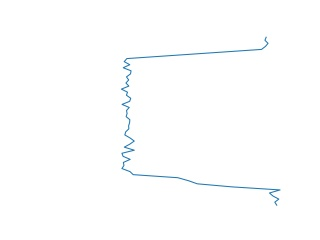distributaryChannelFill: (114, 36, 283, 207)
